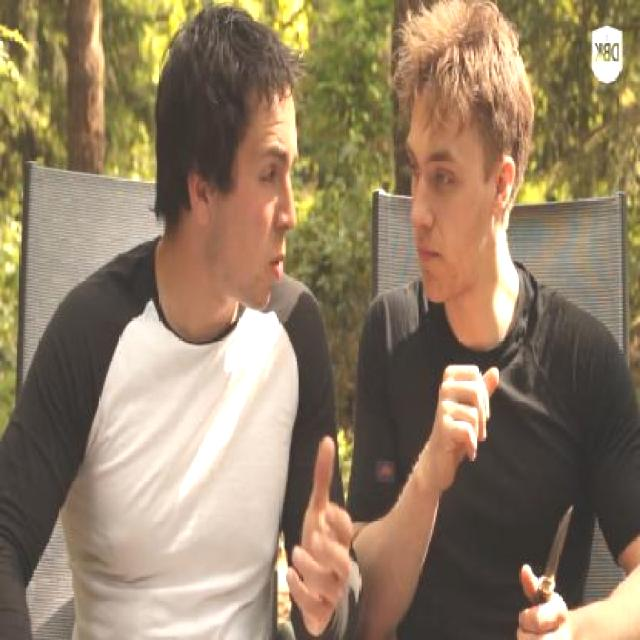knife: (512, 484, 583, 640)
